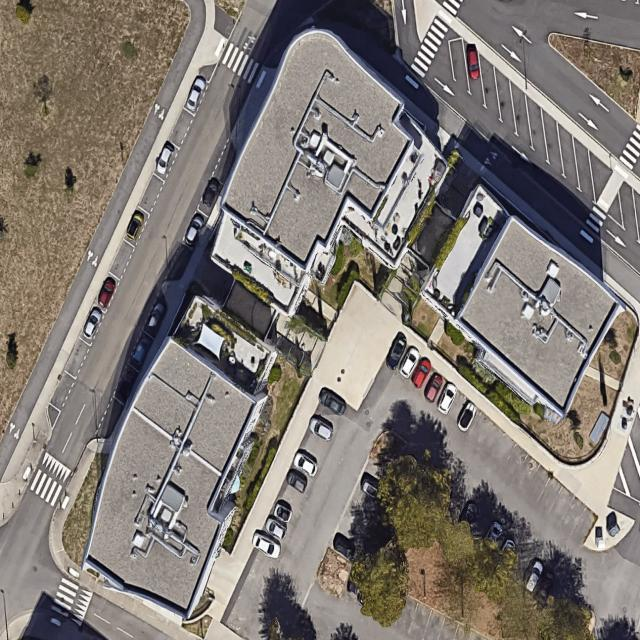immeuble: (198, 17, 438, 283), (67, 328, 279, 625), (428, 215, 640, 423)
